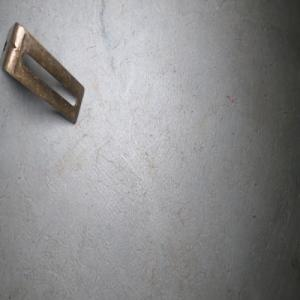MetalPart: (0, 20, 85, 126)
